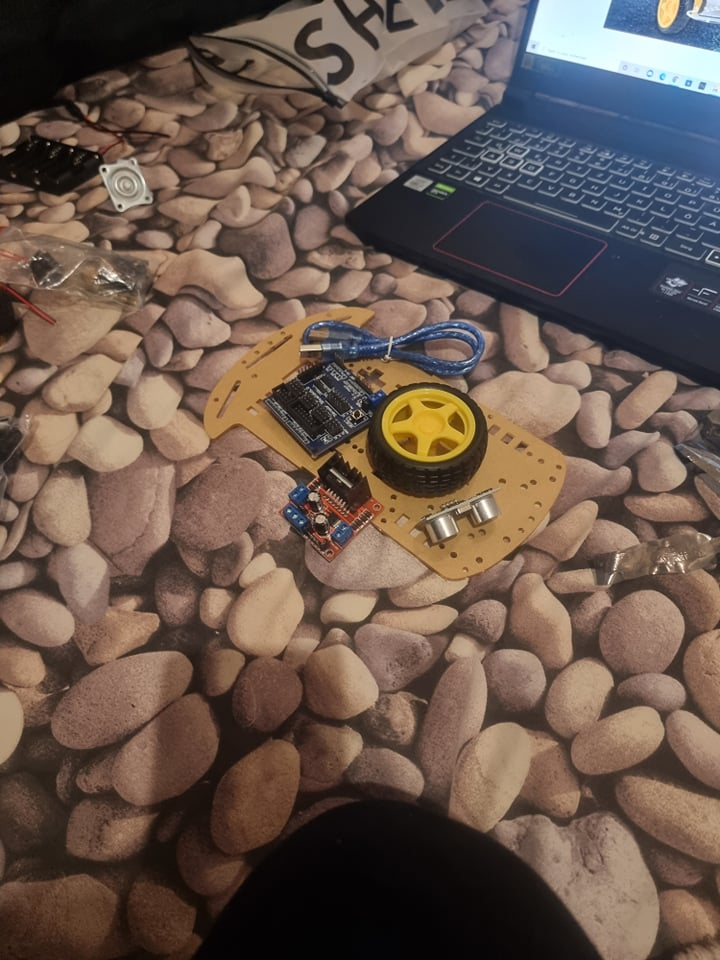5V EXPANSION: (262, 356, 386, 461)
BATTERY BOX: (1, 133, 103, 199)
MOTOR: (273, 453, 382, 561)
SENSOR: (420, 486, 502, 547)
